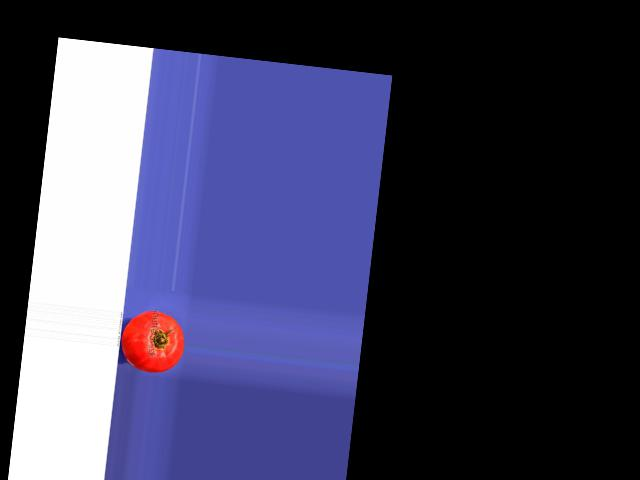tomato: (119, 308, 187, 376)
